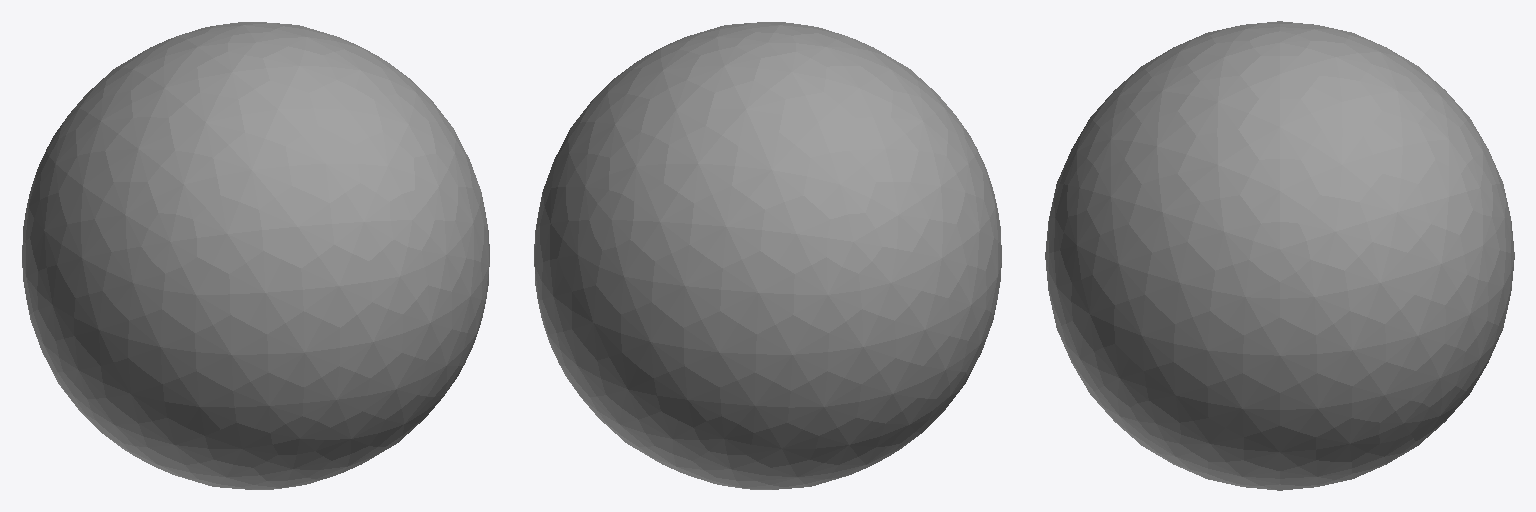
Rendered from bake-test.obj.
3 views of the same model, side by side, from view 1: azimuth 30°, elevation 25°; view 2: azimuth 150°, elevation 25°; view 3: azimuth 270°, elevation 25° (orthographic).
Visible parts, largest first — view 1: Icosphere_Icosphere.001; view 2: Icosphere_Icosphere.001; view 3: Icosphere_Icosphere.001.
Part boxes in pixels (left/top/right/bottom): Icosphere_Icosphere.001: left=22, top=22, right=489, bottom=489; Icosphere_Icosphere.001: left=534, top=22, right=1001, bottom=489; Icosphere_Icosphere.001: left=1045, top=21, right=1514, bottom=490.
Size of the model in its own units: 1.97 by 1.98 by 1.97.